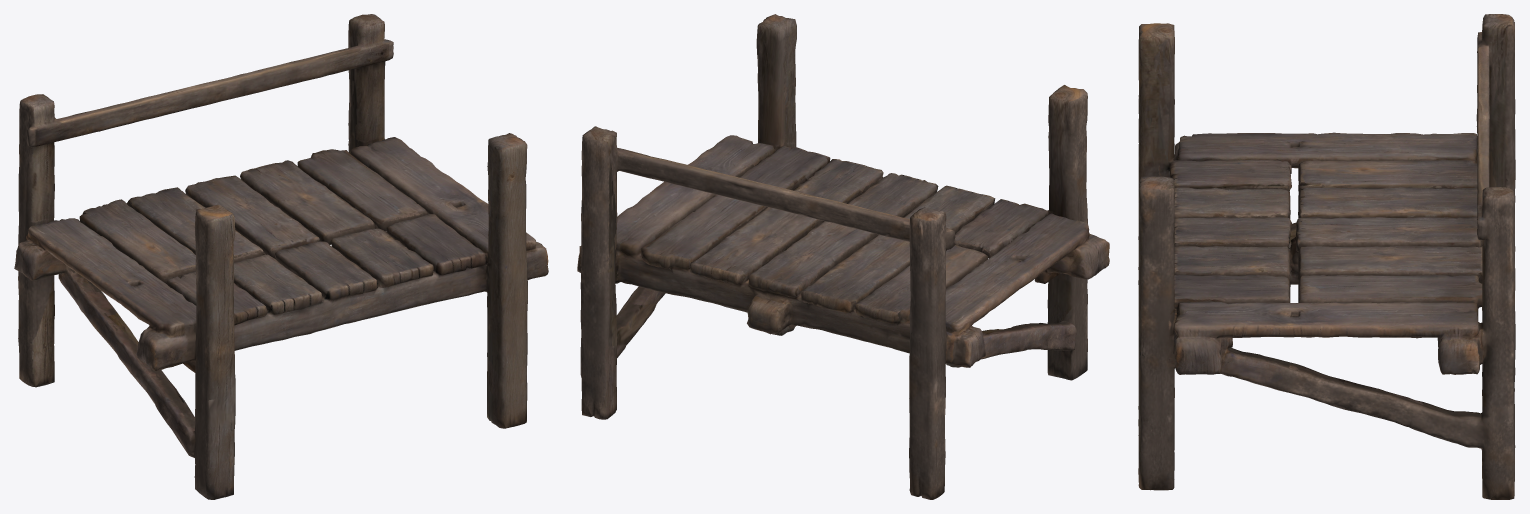
File: Meshy_AI_Rustic_Wooden_Platfor_0220192335_texture.glb
The picture shows the model from 3 angles, left to right: view 1: azimuth 30°, elevation 25°; view 2: azimuth 150°, elevation 25°; view 3: azimuth 270°, elevation 25°; orthographic projection. The views are drawn at different scales.
Bounding box in the file's own units: 1.91 × 1.3 × 1.47.
Materials: 1 (1 with a texture image).
